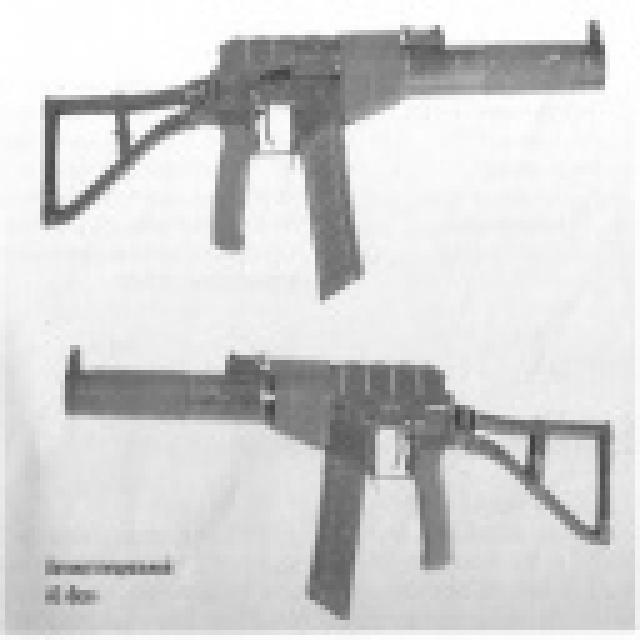Rifle: (0, 10, 640, 314), (26, 330, 640, 640)
